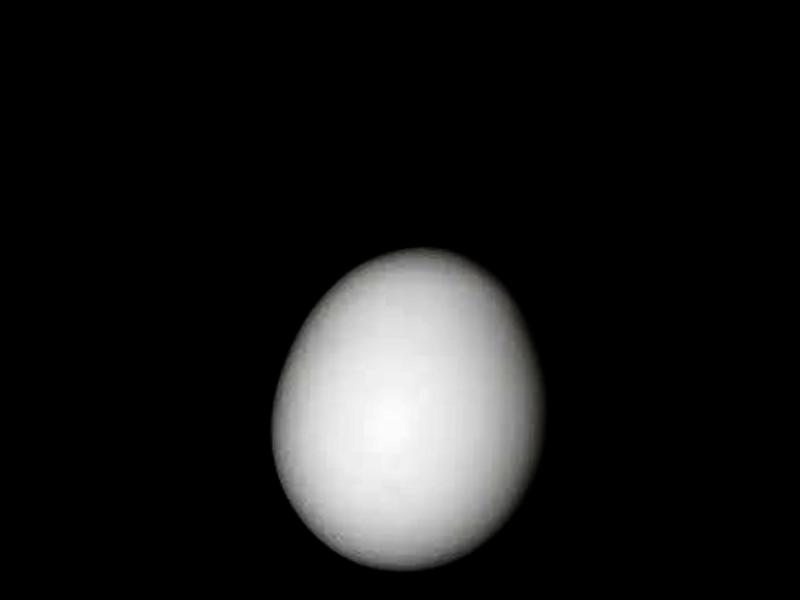Eggs: (268, 246, 545, 577)
